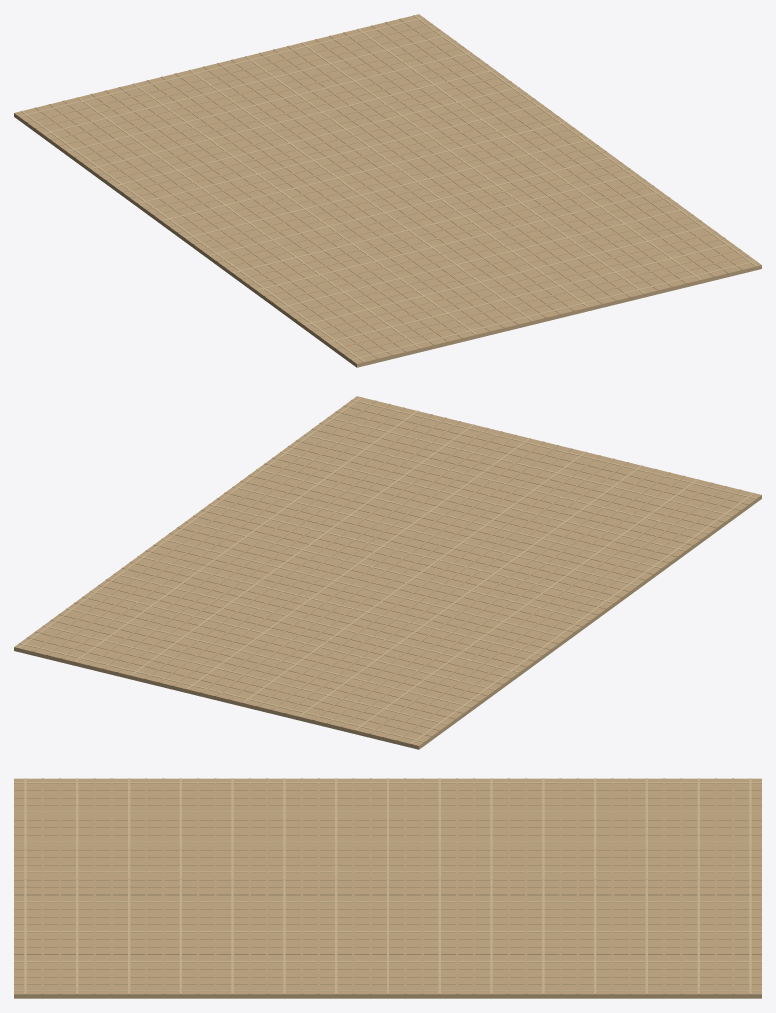
File: ikea-lohals-30511288-g2-rug-proxy.glb
The picture shows the model from 3 angles, top to bottom: view 1: azimuth 30°, elevation 25°; view 2: azimuth 150°, elevation 25°; view 3: azimuth 270°, elevation 25°; orthographic projection. The views are drawn at different scales.
Parts seen in each view (by area): view 1: jute_base, warp_cue_10, warp_cue_12, warp_cue_24, warp_cue_15, warp_cue_25, warp_cue_13, warp_cue_18, warp_cue_4, warp_cue_7, warp_cue_28, warp_cue_1 (+61 smaller); view 2: jute_base, warp_cue_12, warp_cue_24, warp_cue_15, warp_cue_3, warp_cue_21, warp_cue_2, warp_cue_27, warp_cue_14, warp_cue_18, warp_cue_10, warp_cue_25 (+61 smaller); view 3: jute_base, warp_cue_11, warp_cue_13, warp_cue_9, warp_cue_2, warp_cue_15, warp_cue_8, warp_cue_4, warp_cue_7, warp_cue_1, warp_cue_10, warp_cue_12 (+61 smaller).
Boxes of the visible parts, box(x1,y1,x2,y2) form: jute_base: box(14, 14, 761, 367); warp_cue_10: box(147, 80, 491, 331); warp_cue_12: box(175, 73, 519, 324); warp_cue_24: box(343, 32, 687, 283); warp_cue_15: box(217, 63, 561, 314); warp_cue_25: box(357, 28, 701, 280); warp_cue_13: box(189, 69, 533, 321); warp_cue_18: box(259, 52, 603, 303); warp_cue_4: box(63, 100, 407, 351); warp_cue_7: box(105, 90, 449, 341); warp_cue_28: box(399, 18, 743, 269); warp_cue_1: box(21, 110, 365, 362); jute_base: box(14, 396, 761, 749); warp_cue_12: box(256, 455, 600, 706); warp_cue_24: box(88, 414, 432, 665); warp_cue_15: box(214, 445, 558, 696); warp_cue_3: box(383, 486, 726, 737); warp_cue_21: box(130, 424, 474, 675); warp_cue_2: box(396, 489, 740, 740); warp_cue_27: box(46, 403, 390, 655); warp_cue_14: box(228, 448, 572, 699); warp_cue_18: box(172, 434, 516, 685); warp_cue_10: box(284, 462, 628, 713); warp_cue_25: box(74, 410, 418, 662); jute_base: box(14, 778, 761, 998); warp_cue_11: box(14, 856, 761, 857); warp_cue_13: box(14, 871, 761, 872); warp_cue_9: box(14, 841, 761, 842); warp_cue_2: box(14, 789, 761, 790); warp_cue_15: box(14, 886, 761, 887); warp_cue_8: box(14, 834, 761, 835); warp_cue_4: box(14, 804, 761, 805); warp_cue_7: box(14, 826, 761, 827); warp_cue_1: box(14, 782, 761, 783); warp_cue_10: box(14, 849, 761, 850); warp_cue_12: box(14, 864, 761, 865).
Bounding box in the file's own units: 1.33 × 0.013 × 1.95.
